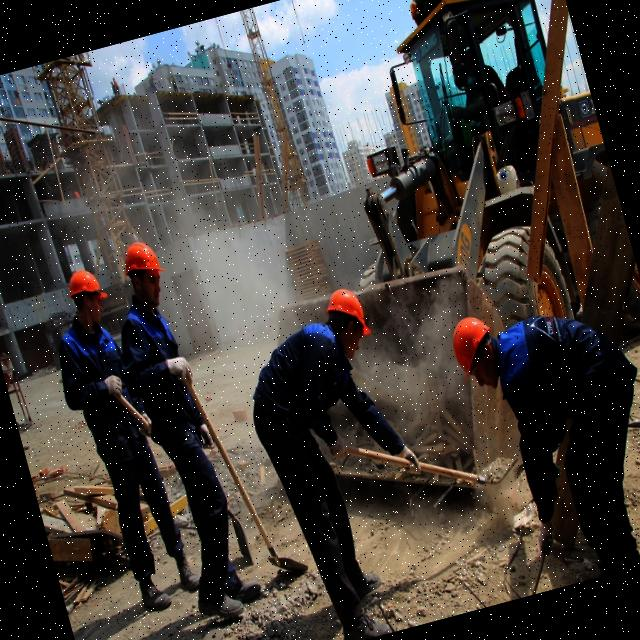Helmet: (447, 312, 502, 384), (322, 283, 373, 345), (118, 237, 166, 284), (64, 265, 111, 311)
NoJacket: (494, 307, 630, 443), (69, 321, 149, 476), (121, 301, 196, 456), (253, 324, 357, 431)
